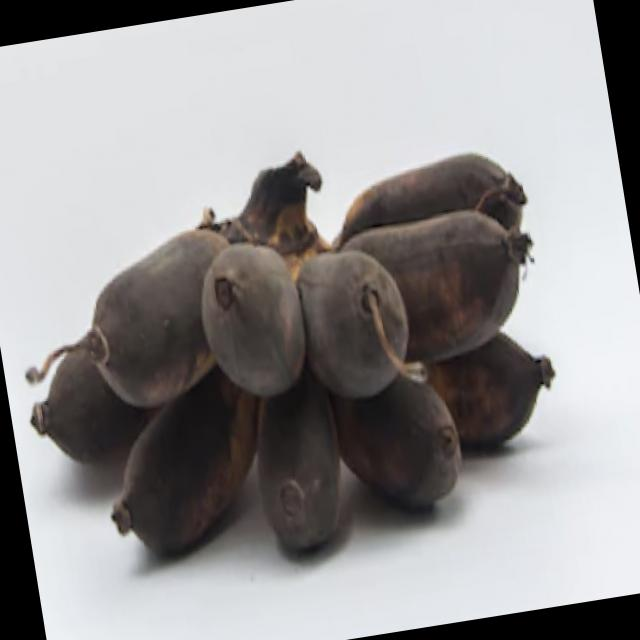rotten-banana: (98, 386, 266, 564), (328, 124, 558, 248), (74, 225, 224, 398), (385, 197, 535, 353), (290, 224, 416, 394), (248, 396, 360, 571), (344, 372, 466, 526), (198, 243, 312, 405), (437, 323, 565, 452), (17, 341, 114, 488)
